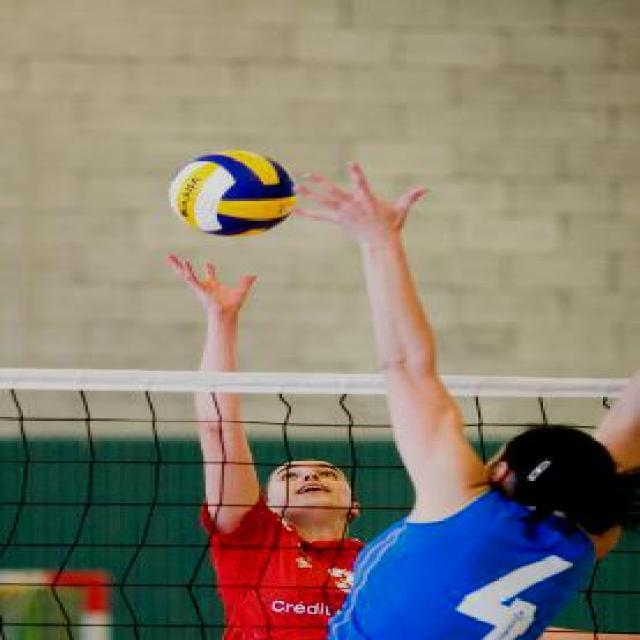volleyball: (168, 151, 298, 238)
